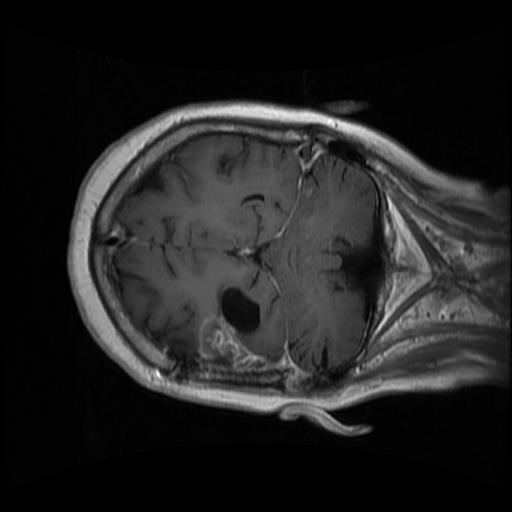glioma: (195, 285, 273, 373)
